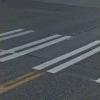Crosswalk: (7, 22, 99, 85)
